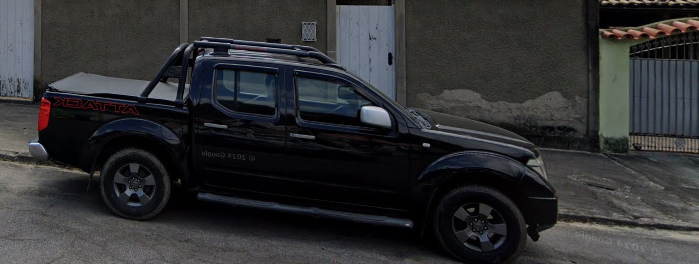car: (36, 36, 559, 264)
